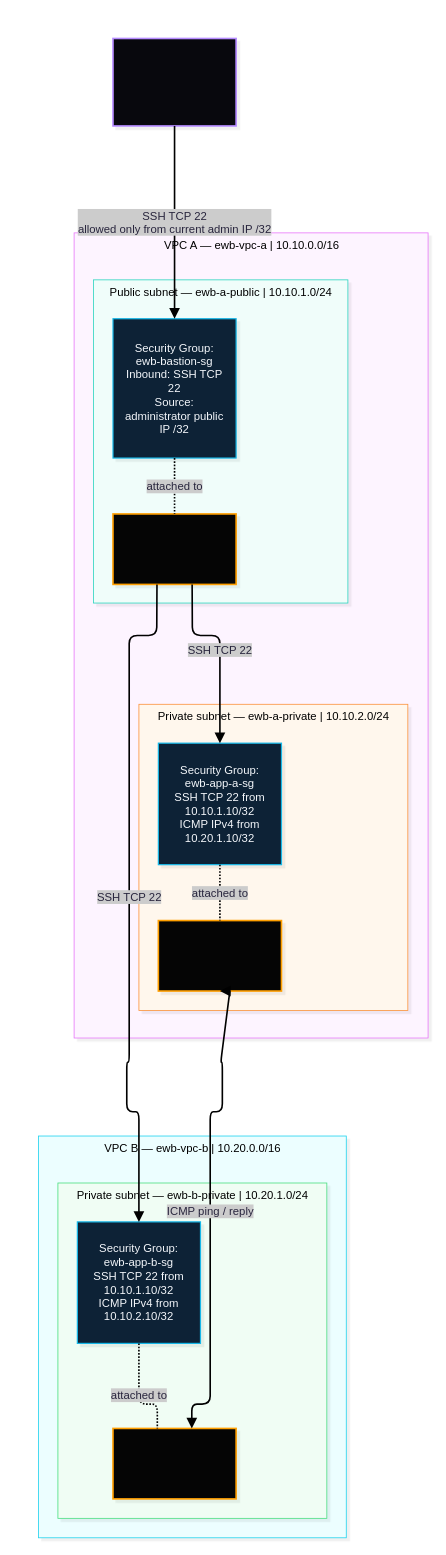
Some shapes in this 446 by 1555 pixel diagram are drawn without their labels. Here are the shapes that lost their labels. From the top down, the centre of each, then its label:
point (176, 83): Your public IP SSH administration source
point (176, 550): Bastion — ewb-bastion 10.10.1.10
point (221, 957): App-A — ewb-app-a 10.10.2.10
point (176, 1465): App-B — ewb-app-b 10.20.1.10
